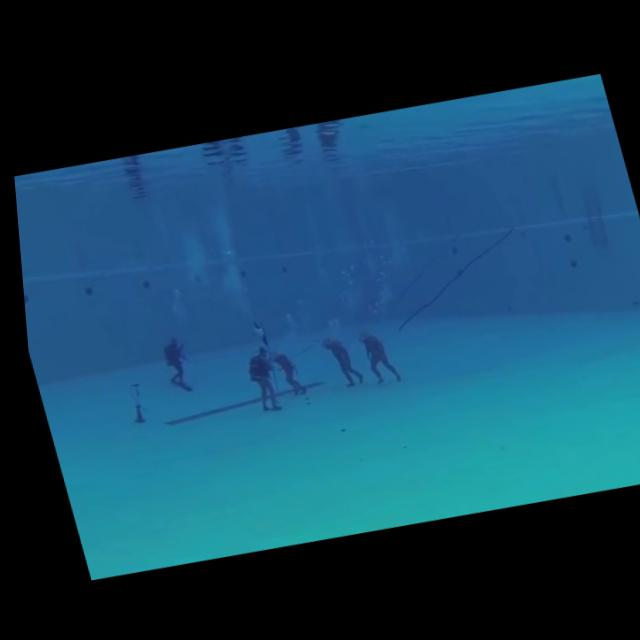human: (338, 315, 404, 397), (230, 336, 282, 416), (251, 335, 310, 405), (147, 328, 197, 401), (311, 323, 362, 393)
